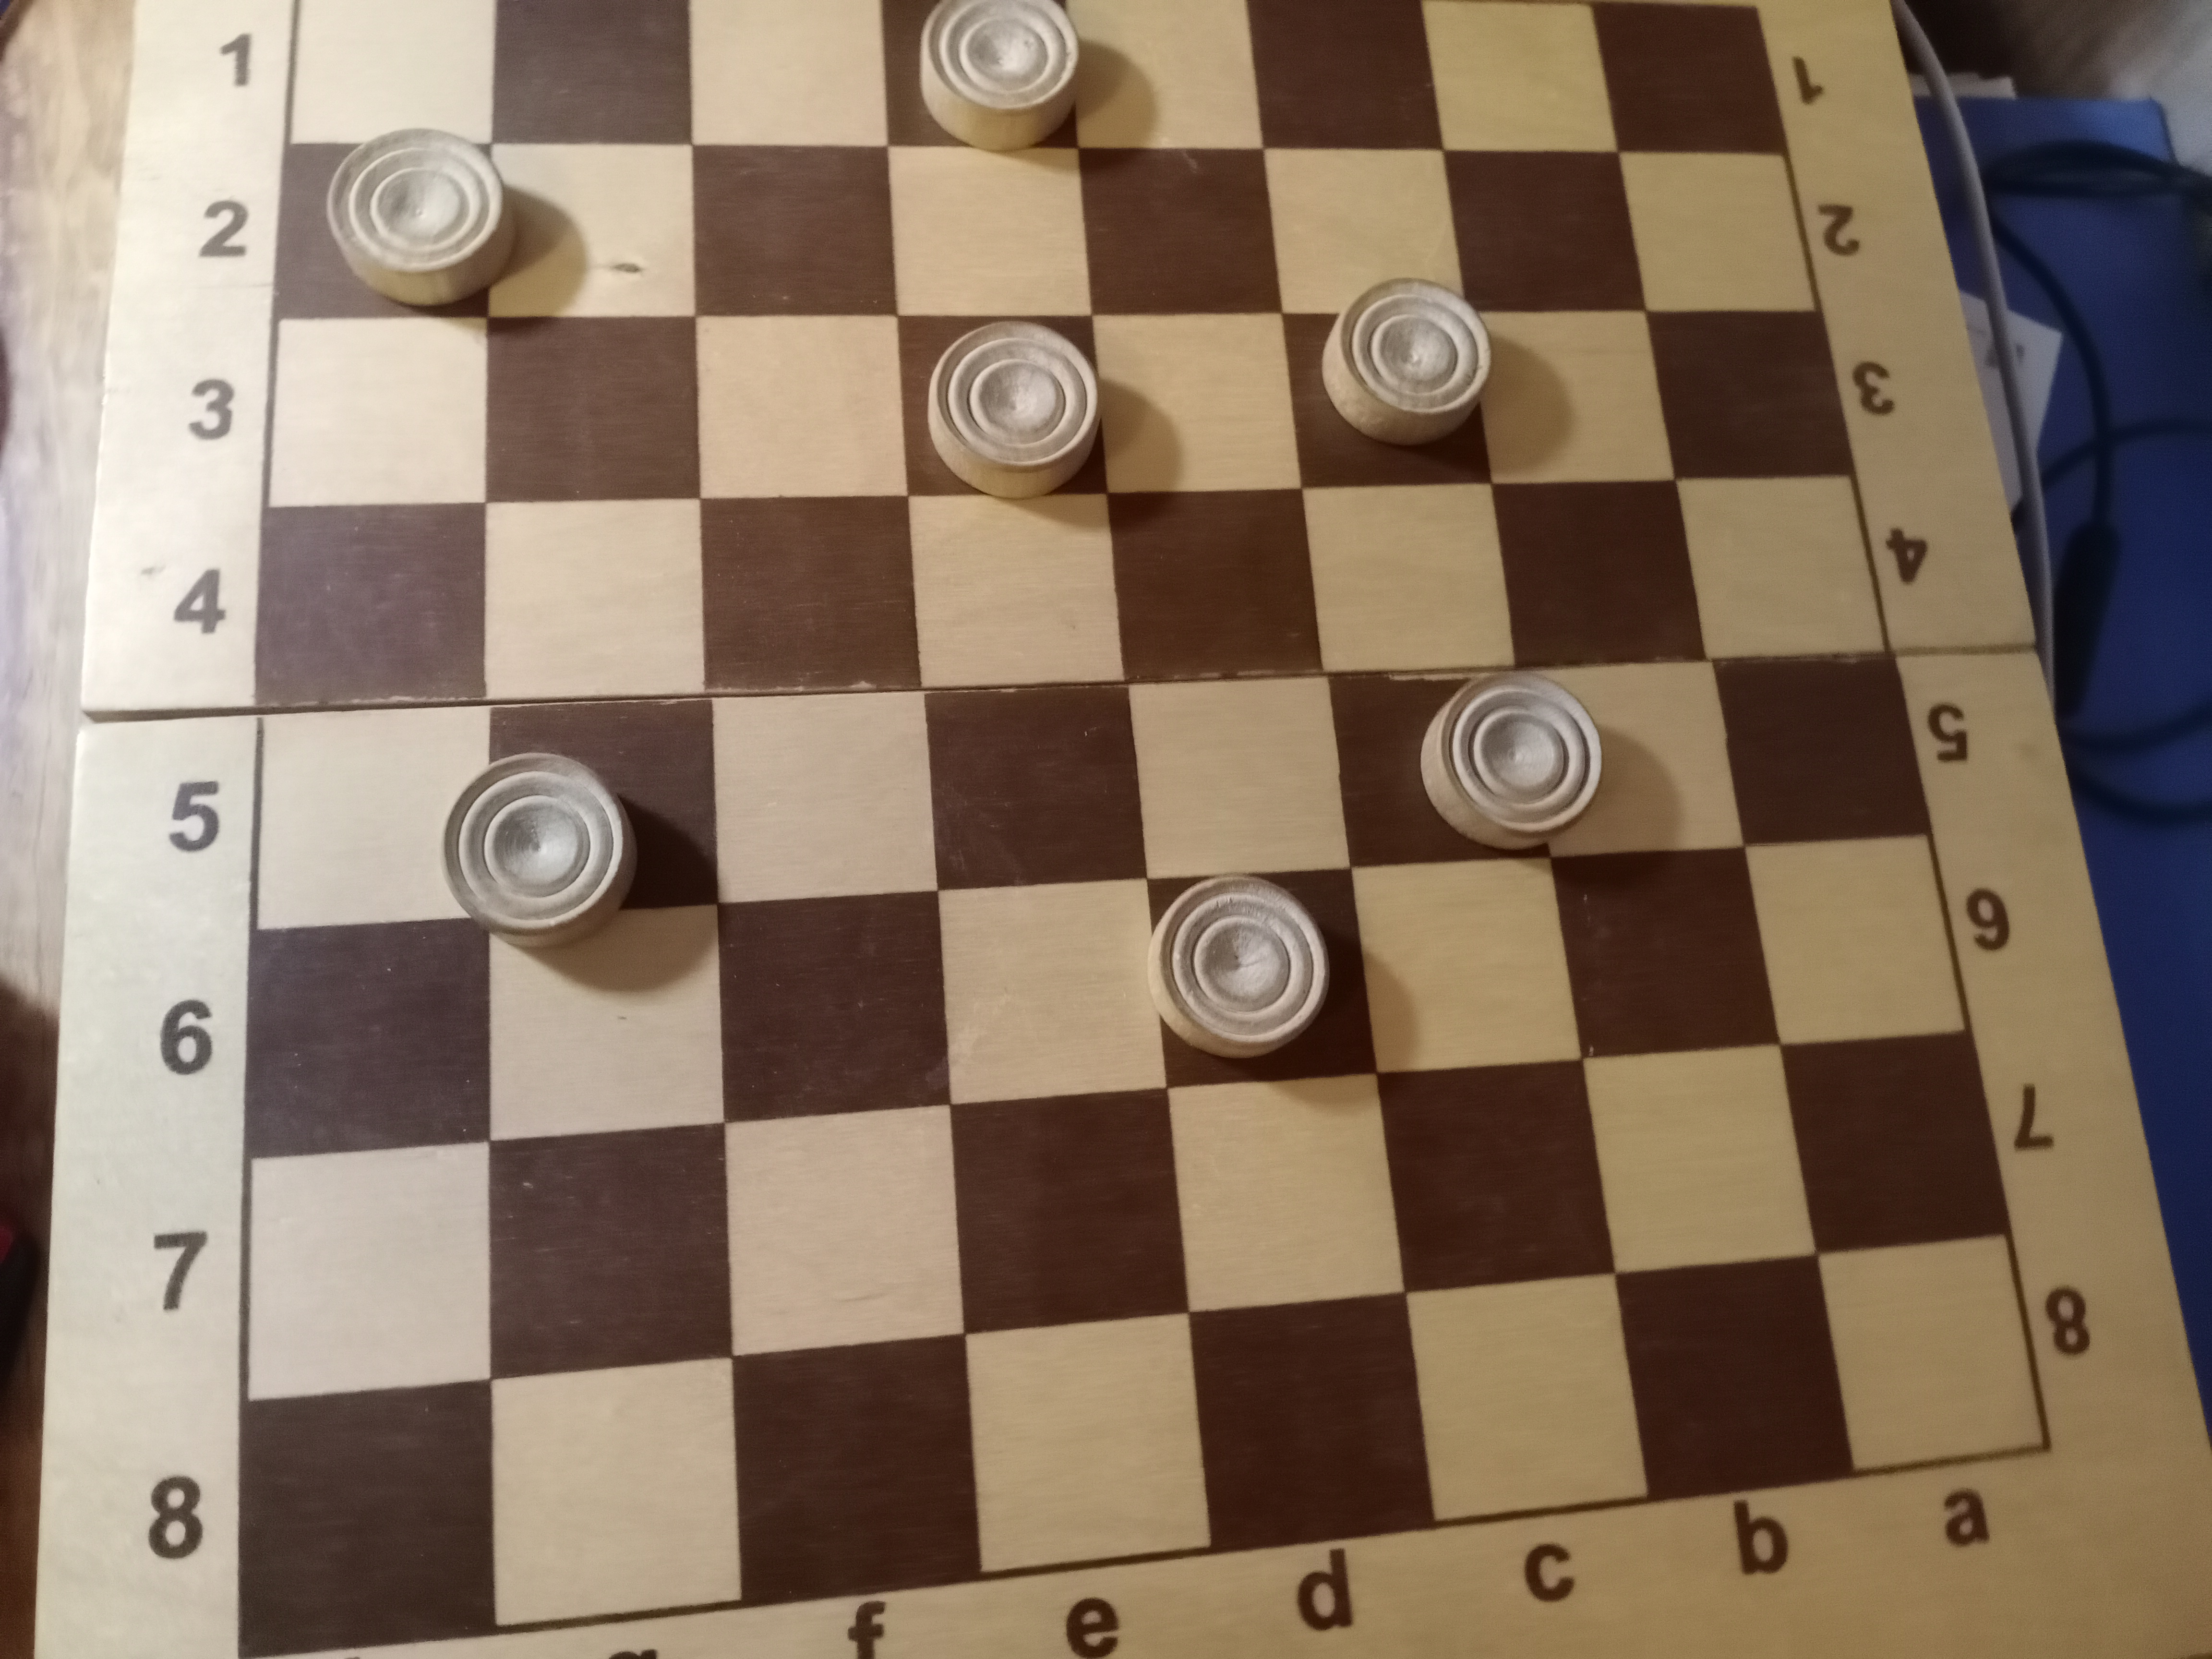White_Draught: (441, 702, 719, 951), (1324, 671, 1604, 868), (1146, 870, 1376, 1087), (277, 127, 516, 319), (1280, 277, 1493, 490), (895, 315, 1109, 498), (881, 0, 1082, 153)
